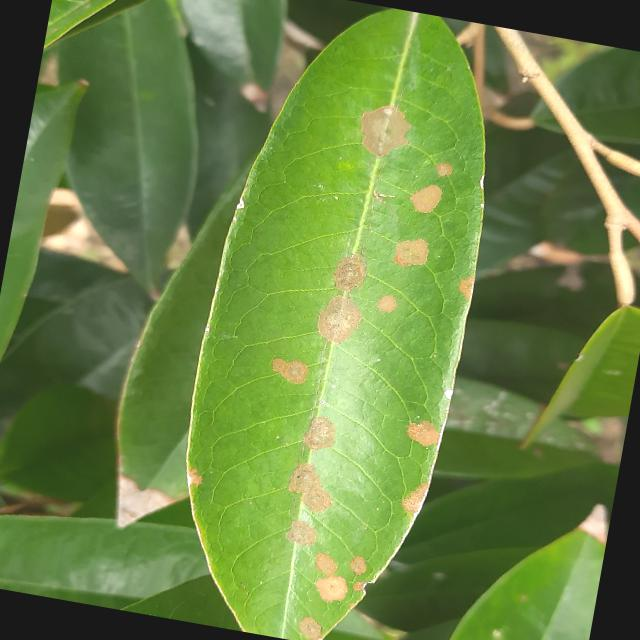Algal Leaf Spot: (147, 0, 531, 639)
